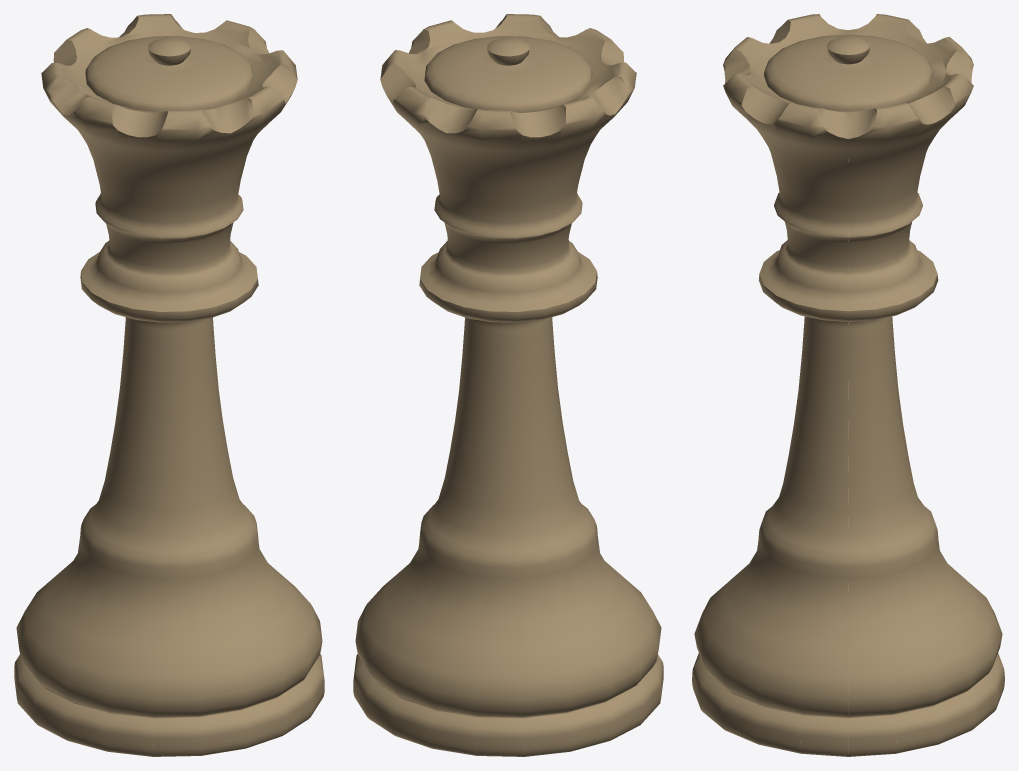
3 renders of one model, left to right at view 1: azimuth 30°, elevation 25°; view 2: azimuth 150°, elevation 25°; view 3: azimuth 270°, elevation 25°, orthographic.
Parts seen in each view (by area): view 1: REGINA2; view 2: REGINA2; view 3: REGINA2.
Boxes of the visible parts, x1,y1,x2,y2 form: REGINA2: (14, 14, 324, 756); REGINA2: (353, 14, 663, 756); REGINA2: (692, 14, 1004, 756).
Size of the model in its own units: 186 by 429 by 186.
